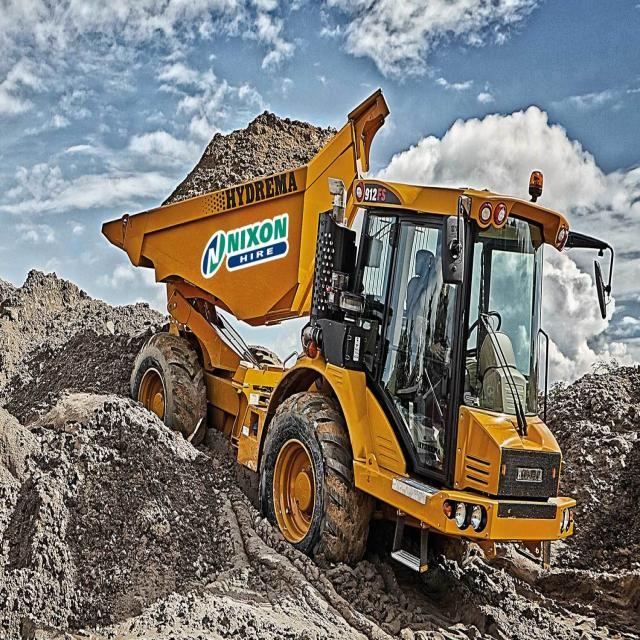dump_truck: (100, 51, 598, 592)
